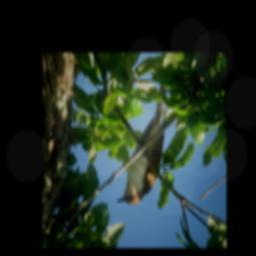Cuckoo: (114, 79, 169, 206)
